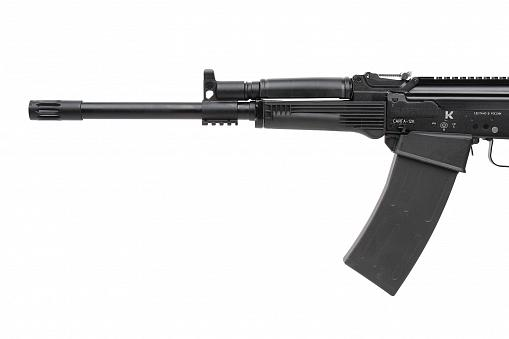larga: (28, 69, 509, 297)
